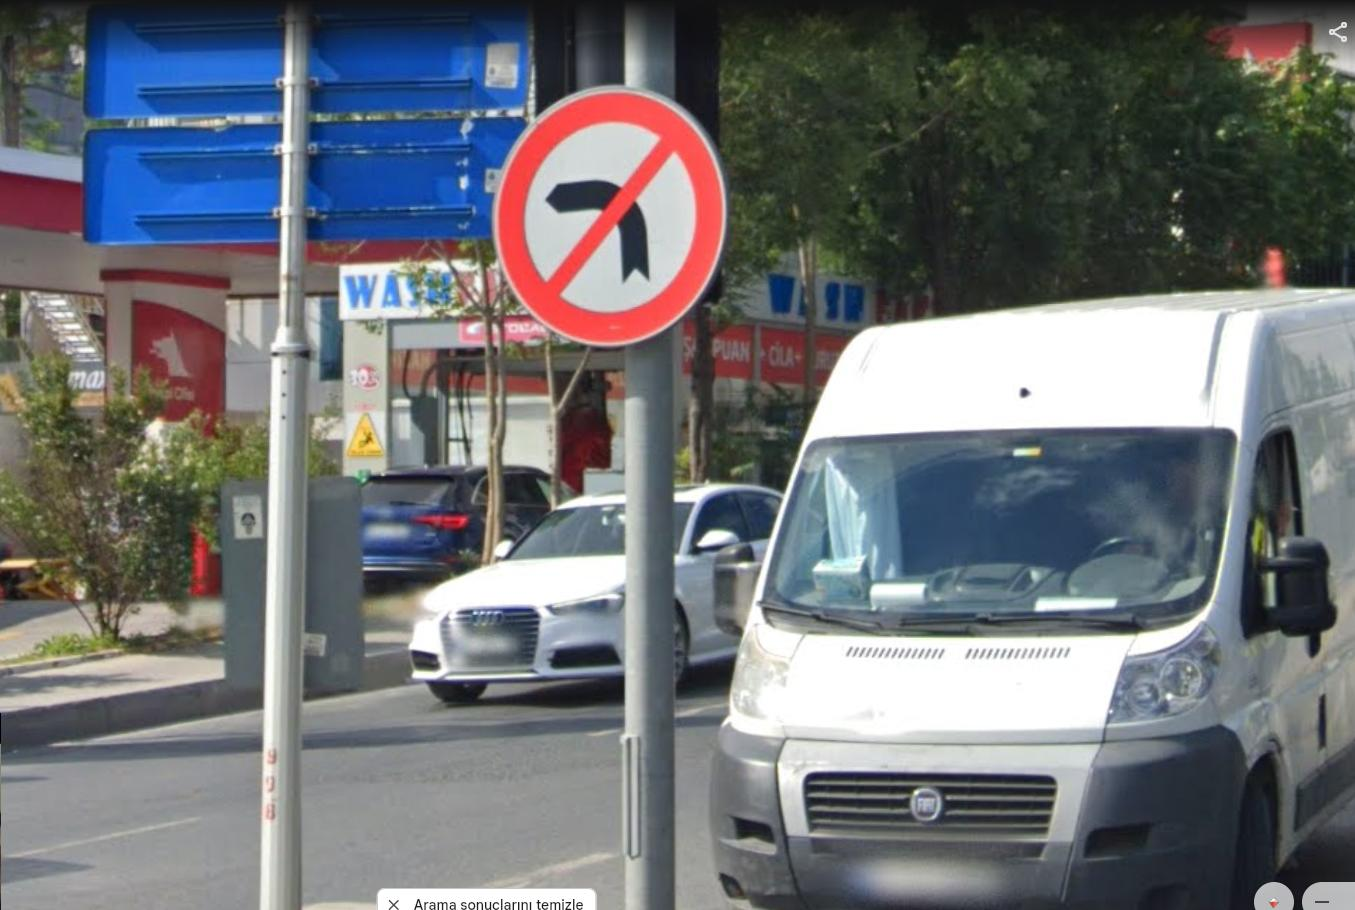leftturnsareforbidden: (502, 90, 732, 334)
